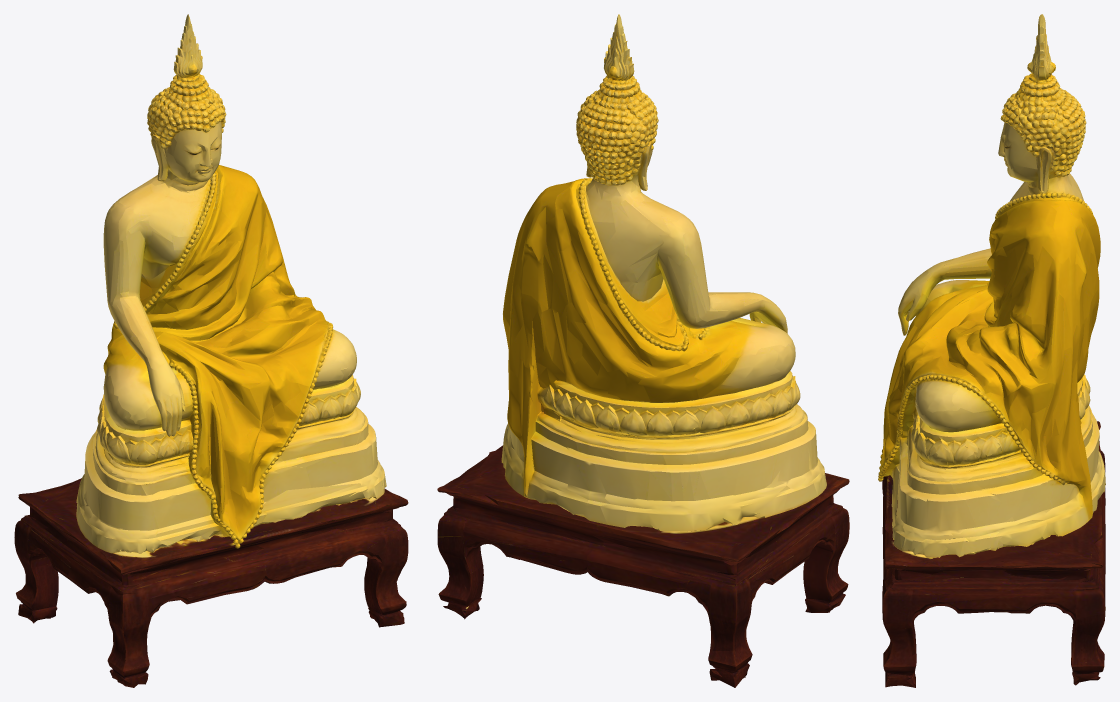
Rendered from w3hgoldbuddha.glb.
3 views of the same model, side by side, from view 1: azimuth 30°, elevation 25°; view 2: azimuth 150°, elevation 25°; view 3: azimuth 270°, elevation 25° (orthographic). The views are drawn at different scales.
Visible parts, largest first — view 1: output_unwrapped; view 2: output_unwrapped; view 3: output_unwrapped.
Part boxes in pixels (bbox=[...]): output_unwrapped: bbox=[14, 14, 408, 687]; output_unwrapped: bbox=[437, 14, 849, 687]; output_unwrapped: bbox=[878, 14, 1105, 687].
Bounding box in the file's own units: 0.7785 × 1.52 × 0.5196.
1 material, 1 textured.
